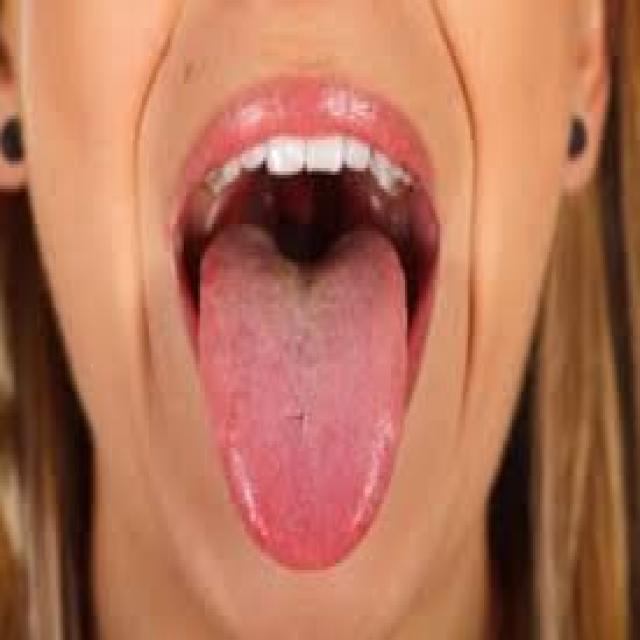normal_tongue: (143, 203, 491, 610)
